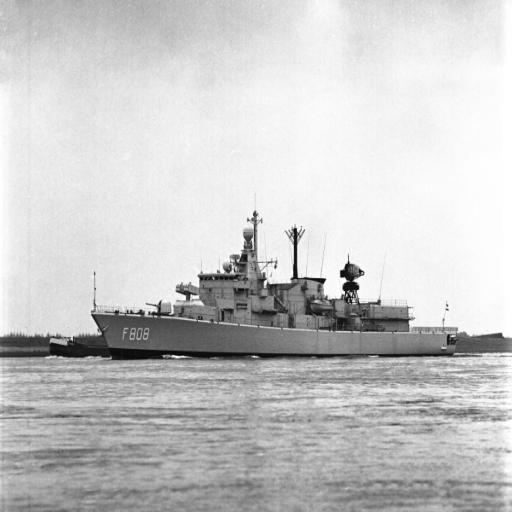Fragata: (86, 200, 464, 368)
